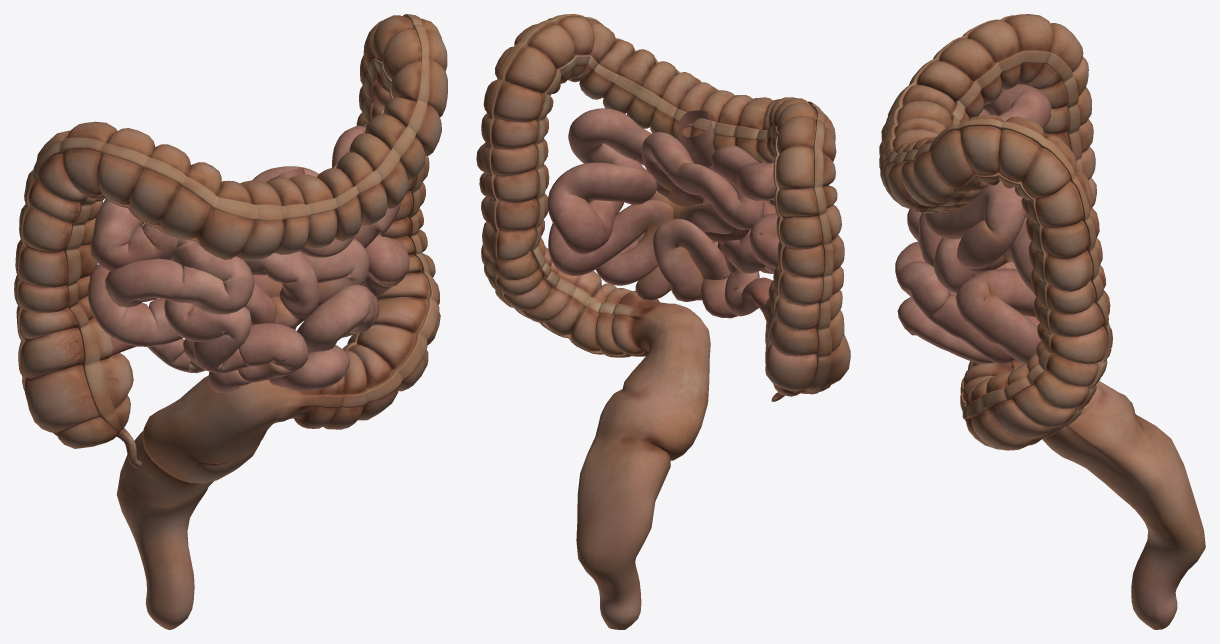
The model's file is LargeSmall_intestines.gltf.
The picture shows the model from 3 angles, left to right: view 1: azimuth 30°, elevation 25°; view 2: azimuth 150°, elevation 25°; view 3: azimuth 270°, elevation 25°; orthographic projection. The views are drawn at different scales.
Parts seen in each view (by area): view 1: Object_2, Object_3; view 2: Object_2, Object_3; view 3: Object_2, Object_3.
Part boxes in pixels (x1,y1,x2,y2): Object_2: (14,14,447,629); Object_3: (88,125,409,392); Object_2: (476,14,850,629); Object_3: (547,108,779,318); Object_2: (879,14,1205,629); Object_3: (895,84,1051,364).
Size of the model in its own units: 22.64 by 32.22 by 16.45.
Materials: 2 (2 with a texture image).
